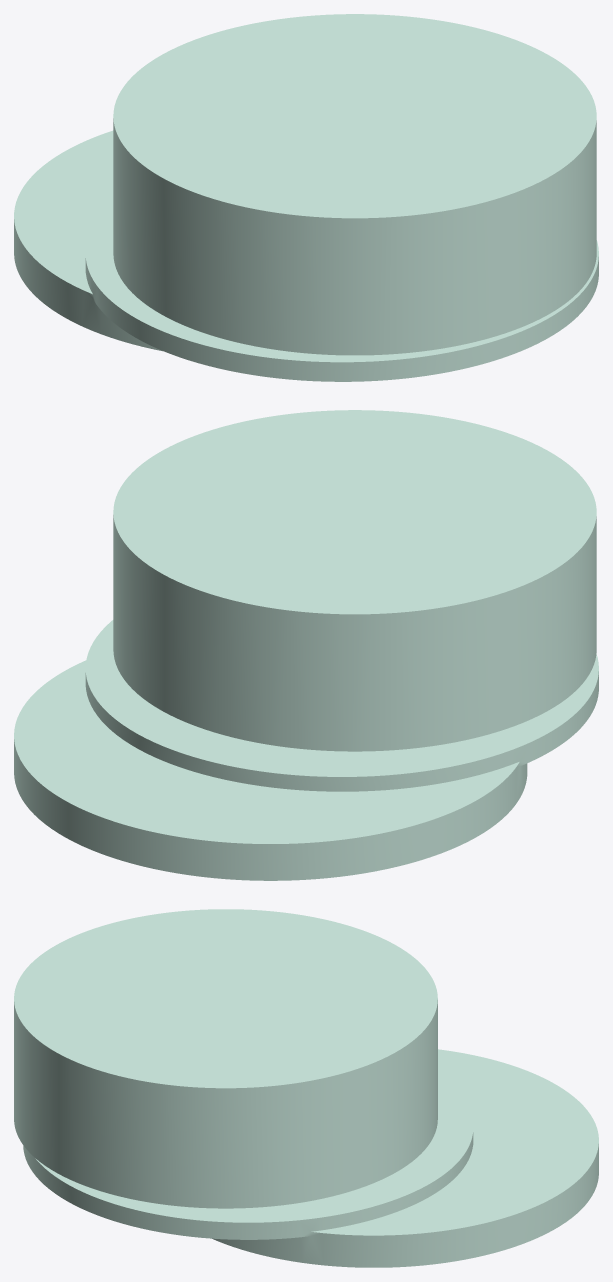
3 renders of one model, top to bottom at view 1: azimuth 30°, elevation 25°; view 2: azimuth 150°, elevation 25°; view 3: azimuth 270°, elevation 25°, orthographic. The views are drawn at different scales.
Parts seen in each view (by area): view 1: Renderer Node; view 2: Renderer Node; view 3: Renderer Node.
Boxes of the visible parts, left/top/right/bottom form: Renderer Node: left=14, top=14, right=598, bottom=381; Renderer Node: left=14, top=410, right=598, bottom=880; Renderer Node: left=14, top=909, right=598, bottom=1267.
Size of the model in its own units: 1.48 by 0.6328 by 1.93.
